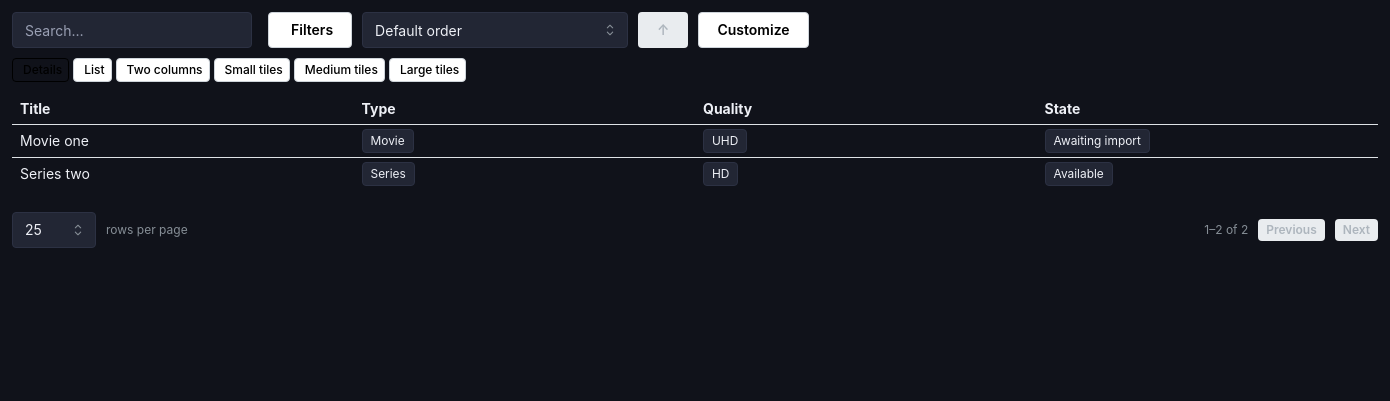
Test: DenseGrid opt-in pagination › normalizes labels and keeps raw filter values in a panel outside the toolbar
Click the button "Filters": (310, 30) [268, 12, 352, 48]
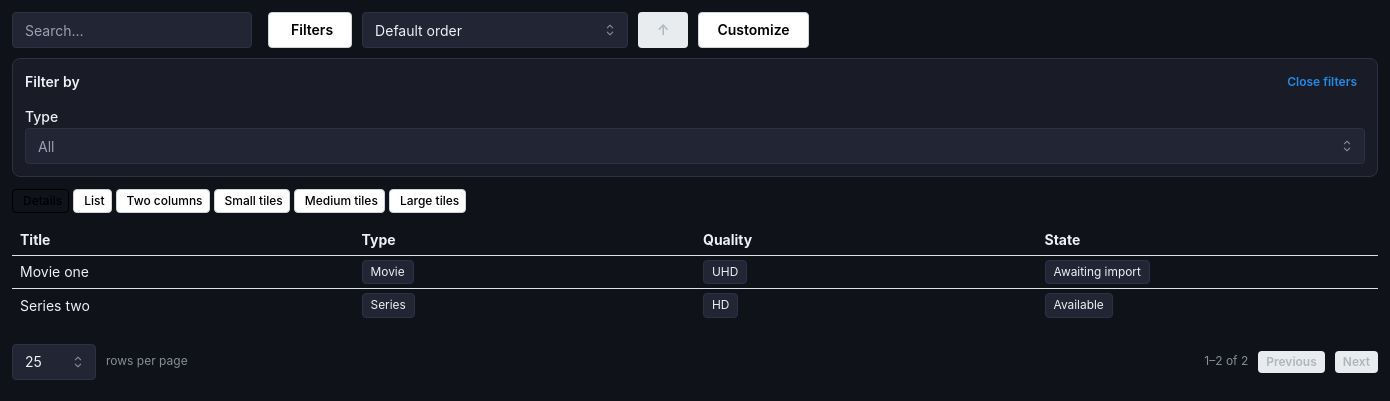
Click the button with aria-label "Filter Type: Movie": (388, 272) [362, 260, 414, 284]
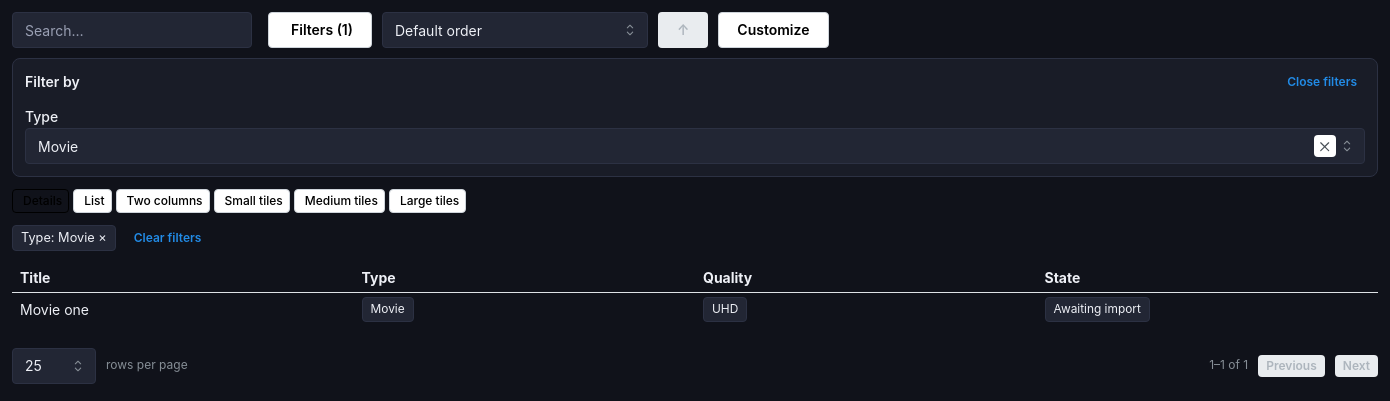
Expected: the text "Movie one" is shown, [12, 293, 354, 326]
Expected: the text "Series two" is gone
Click the button "Close filters": (1322, 82) [1279, 71, 1365, 93]
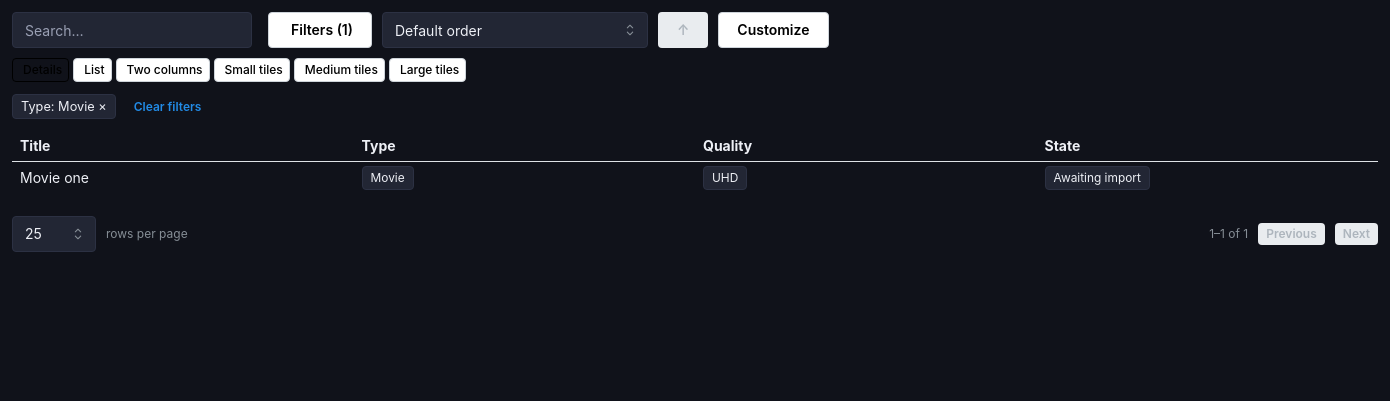
Expected: the text "Movie one" is shown, [12, 162, 354, 194]
Click the button "Clear filters": (168, 107) [126, 96, 209, 118]
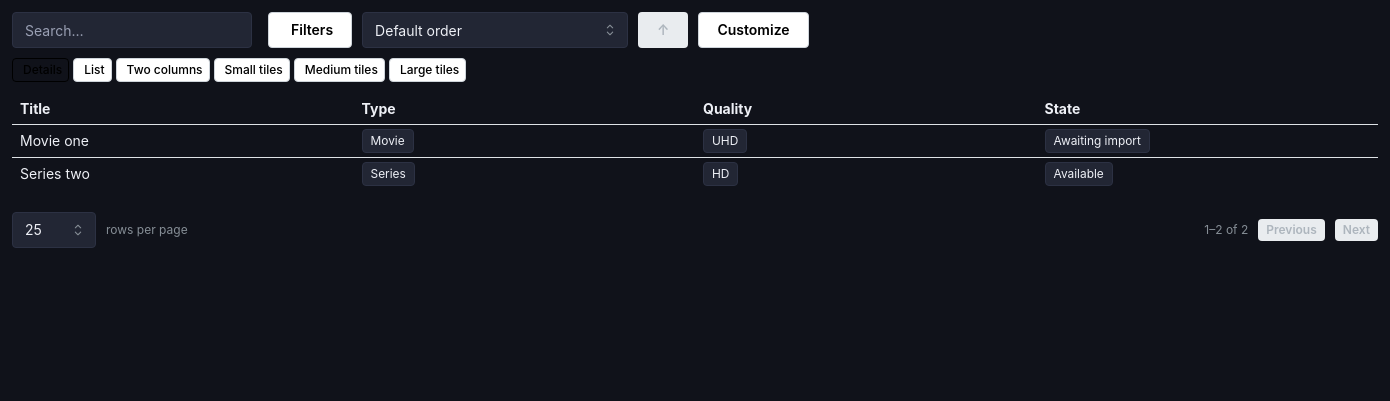
Expected: the text "Series two" is shown, [12, 158, 354, 190]
